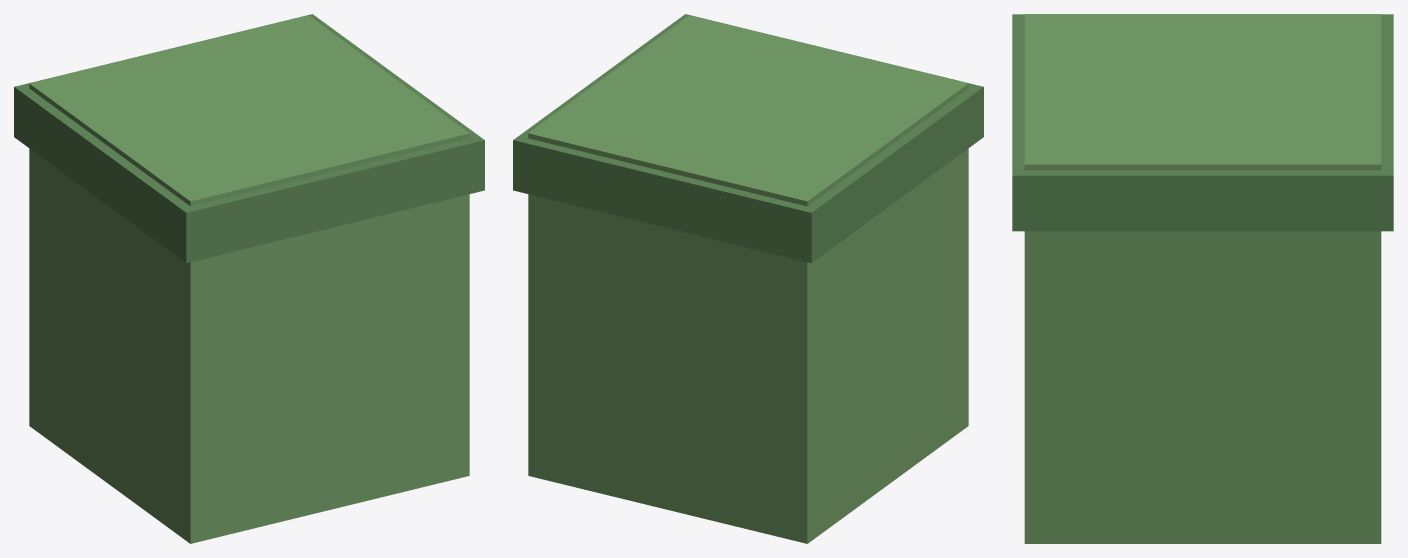
The model's file is elfico_manga_sup.glb.
3 views of the same model, side by side, from view 1: azimuth 30°, elevation 25°; view 2: azimuth 150°, elevation 25°; view 3: azimuth 270°, elevation 25° (orthographic). The views are drawn at different scales.
Visible parts, largest first — view 1: elfico_manga_sup; view 2: elfico_manga_sup; view 3: elfico_manga_sup.
Part boxes in pixels (left/top/right/bottom): elfico_manga_sup: left=14, top=14, right=484, bottom=543; elfico_manga_sup: left=513, top=14, right=983, bottom=543; elfico_manga_sup: left=1012, top=14, right=1393, bottom=543.
Size of the model in its own units: 0.31 by 0.34 by 0.31.
